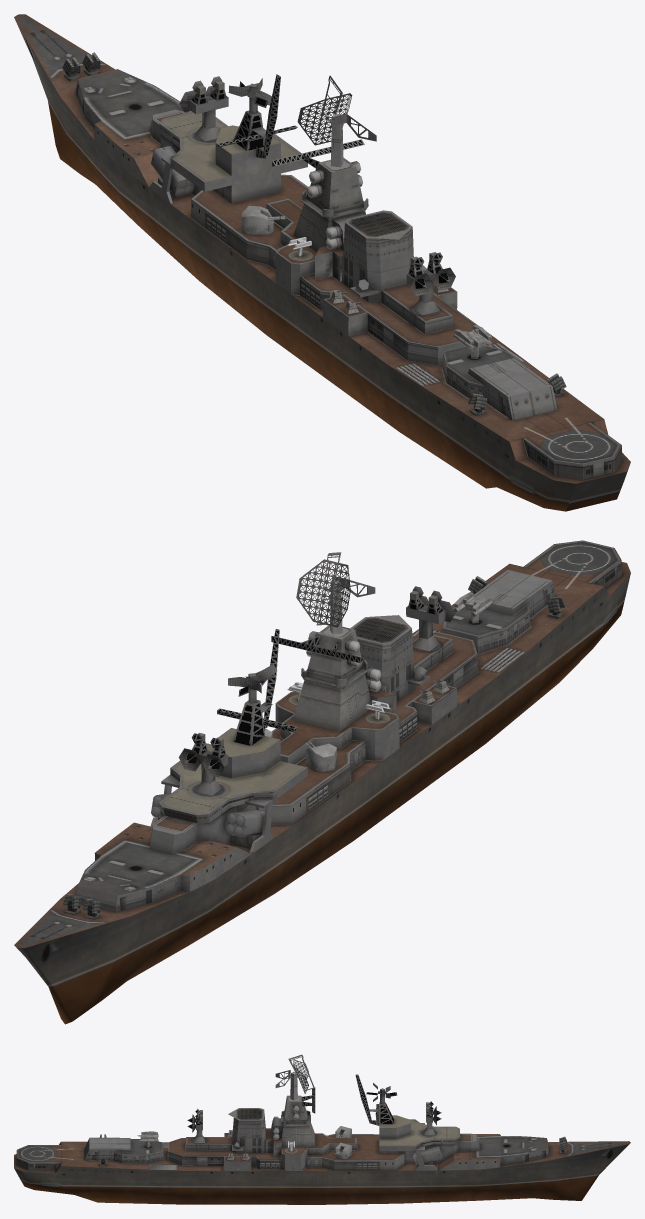
The model's file is Cruiser.FBX.
The picture shows the model from 3 angles, top to bottom: view 1: azimuth 30°, elevation 25°; view 2: azimuth 150°, elevation 25°; view 3: azimuth 270°, elevation 25°; orthographic projection. The views are drawn at different scales.
Parts seen in each view (by area): view 1: DrawCall_0, DrawCall_1, DrawCall_4; view 2: DrawCall_0, DrawCall_1, DrawCall_4; view 3: DrawCall_0, DrawCall_1, DrawCall_2.
Part boxes in pixels (box(x1,y1,x2,y2)): DrawCall_0: box(14, 14, 630, 511); DrawCall_1: box(297, 75, 376, 167); DrawCall_4: box(242, 205, 273, 235); DrawCall_0: box(14, 540, 630, 1024); DrawCall_1: box(296, 552, 375, 634); DrawCall_4: box(305, 743, 336, 772); DrawCall_0: box(14, 1074, 630, 1204); DrawCall_1: box(275, 1054, 314, 1100); DrawCall_2: box(335, 1142, 351, 1159).
Size of the model in its own units: 18.63 by 45.48 by 173.
6 materials, 5 textured.
